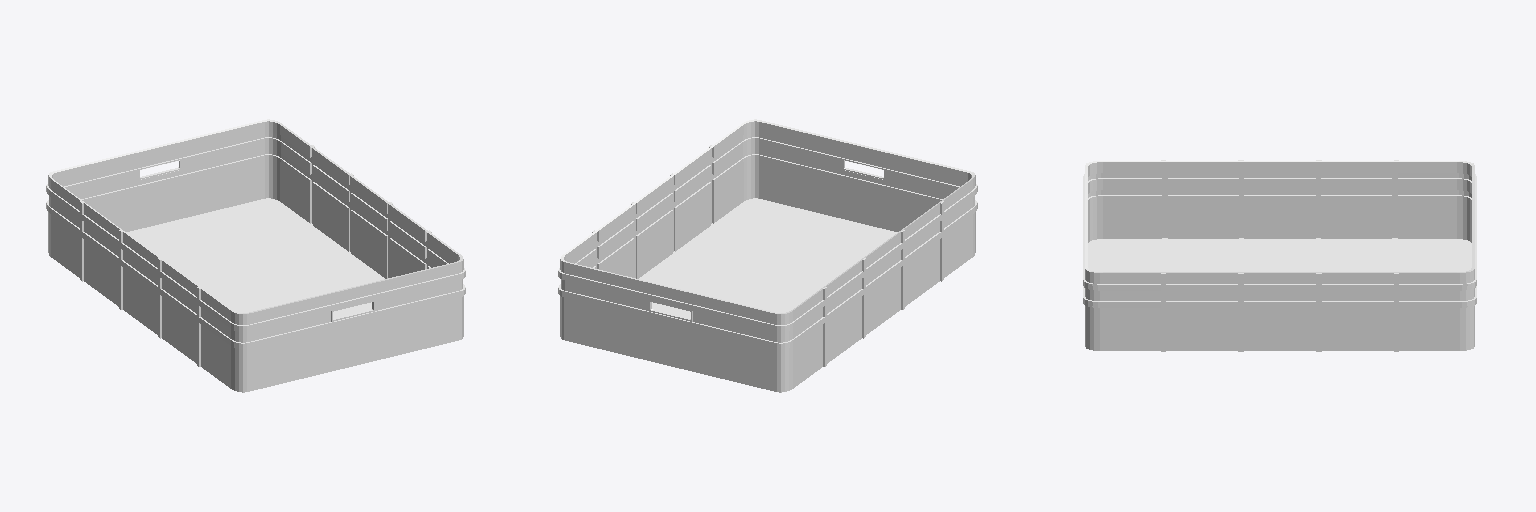
File: plastic_box.obj
3 renders of one model, left to right at view 1: azimuth 30°, elevation 25°; view 2: azimuth 150°, elevation 25°; view 3: azimuth 270°, elevation 25°, orthographic.
Size of the model in its own units: 0.5949 by 0.1909 by 0.8695.